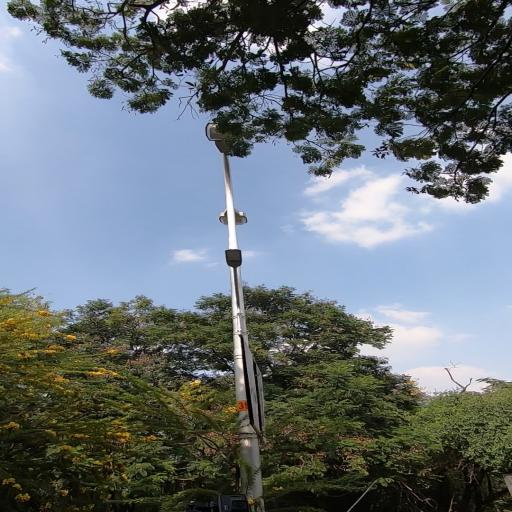Street_light: (218, 245, 251, 308)
